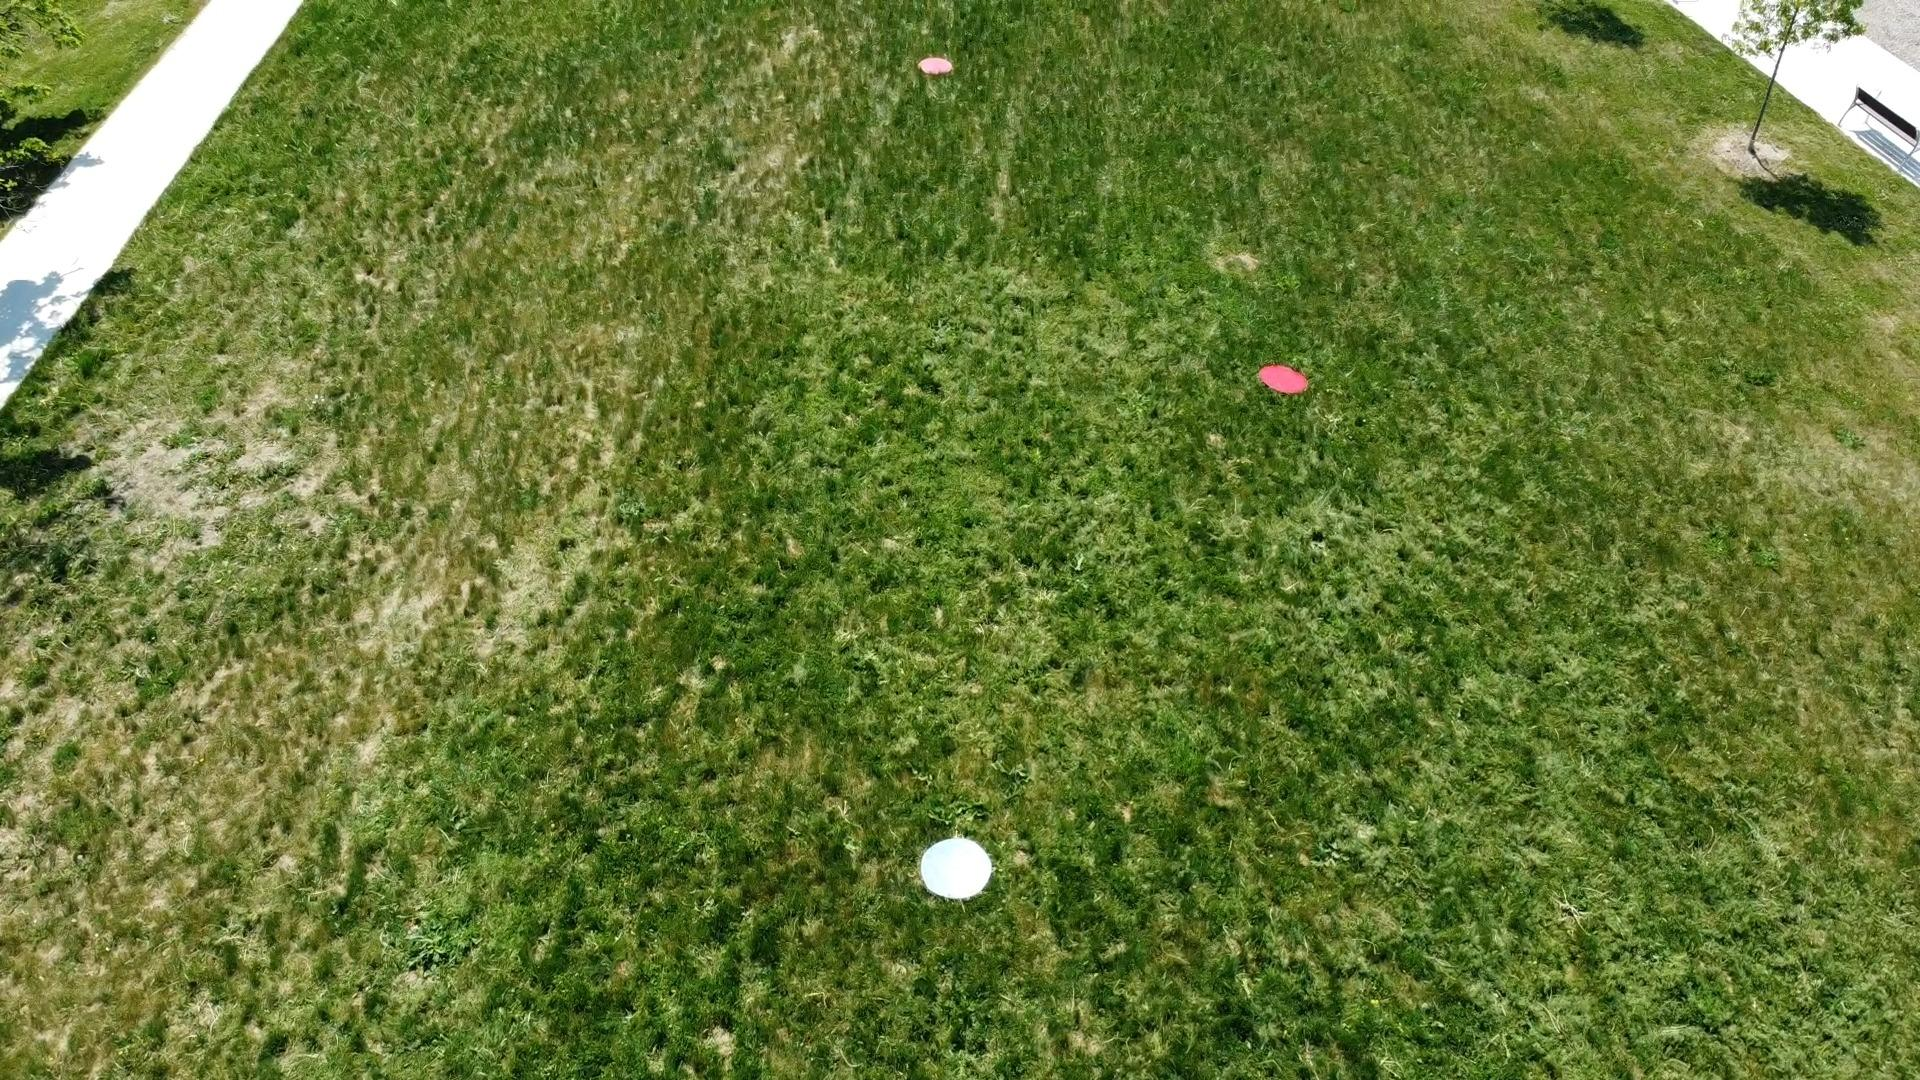Blue: (915, 833, 997, 902)
Red: (1257, 361, 1313, 397), (916, 55, 953, 76)
